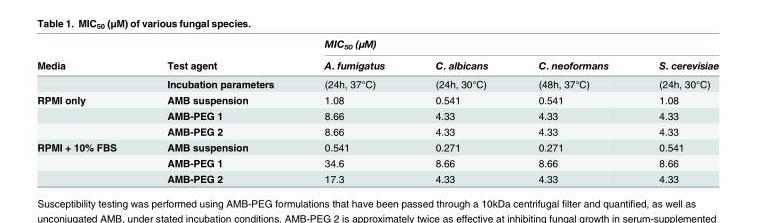table: (36, 36, 718, 184)
table column: (141, 36, 298, 184), (512, 36, 633, 184), (298, 36, 409, 184), (36, 36, 141, 184), (409, 36, 512, 184), (633, 36, 718, 184)
table column header: (36, 36, 718, 74)
table row: (36, 54, 718, 74), (36, 36, 718, 54), (36, 74, 718, 91), (36, 91, 718, 107), (36, 107, 718, 123), (36, 138, 718, 154), (36, 154, 718, 170), (36, 123, 718, 138), (36, 170, 718, 184)
table spanning cell: (298, 36, 718, 54), (141, 36, 298, 74), (36, 91, 141, 138), (36, 138, 141, 184), (36, 36, 141, 74)
